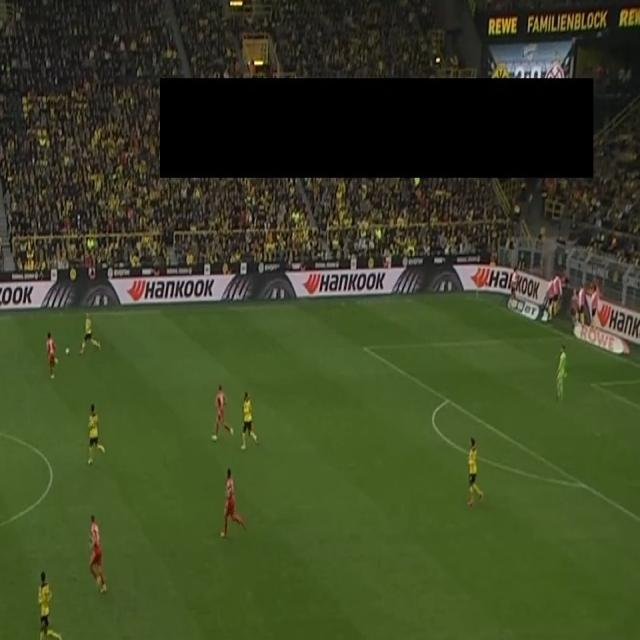ball: (64, 346, 70, 356)
